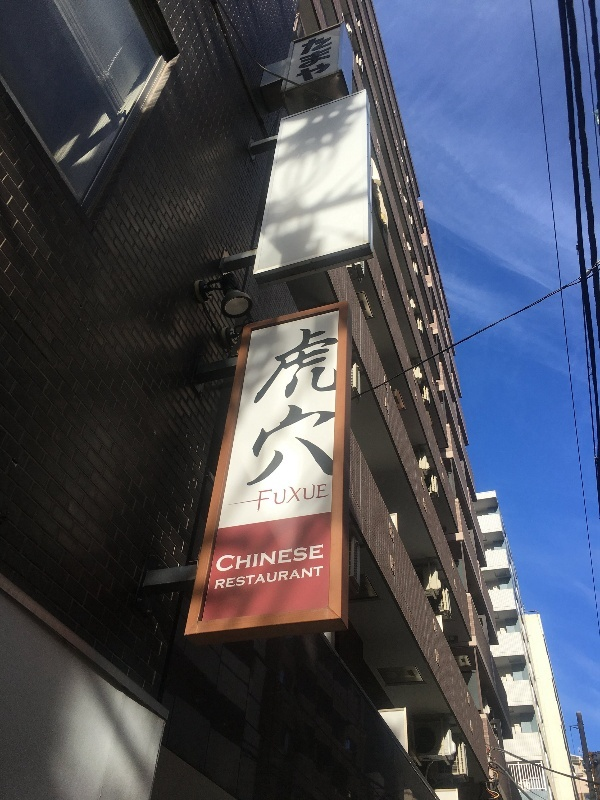text: (273, 320, 288, 488), (289, 320, 304, 488), (305, 320, 320, 488), (321, 320, 336, 488), (265, 320, 272, 488), (305, 34, 320, 86), (321, 34, 333, 86), (225, 544, 240, 574), (241, 544, 256, 574), (257, 544, 272, 574), (273, 544, 288, 574), (289, 544, 304, 574), (305, 544, 320, 574), (273, 483, 288, 513), (289, 483, 304, 513), (305, 483, 320, 513), (259, 483, 272, 513), (225, 566, 240, 590), (241, 566, 256, 590), (257, 566, 272, 590), (273, 566, 288, 590), (289, 566, 304, 590), (305, 566, 320, 590), (337, 320, 339, 488), (321, 483, 330, 513), (216, 566, 224, 590), (218, 544, 224, 574), (321, 566, 324, 590), (321, 544, 323, 574), (303, 34, 304, 86)
